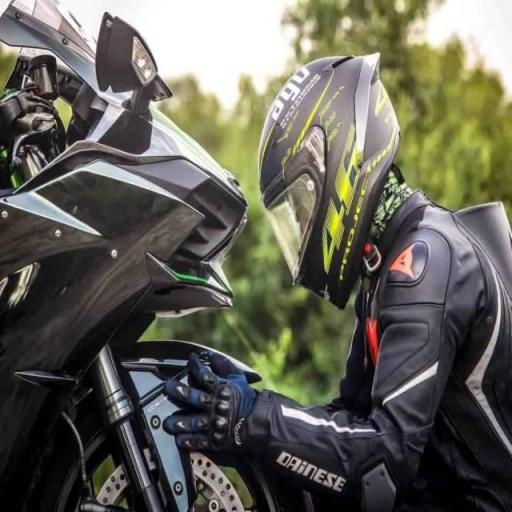Helmet: (263, 66, 408, 304)
Motor: (1, 6, 260, 512)
